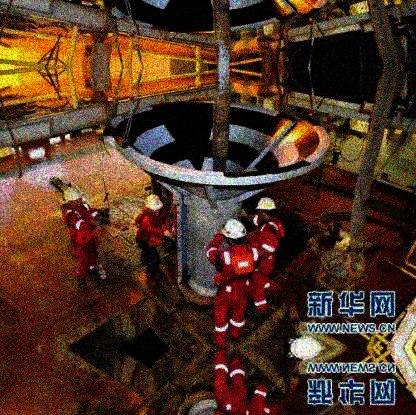helmet: (221, 220, 246, 249), (255, 197, 279, 222), (145, 194, 164, 219), (65, 189, 83, 211)
